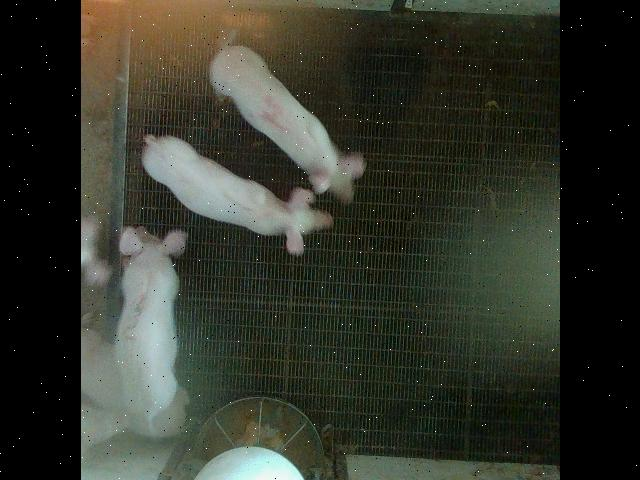pig-3: (112, 226, 185, 424)
pig-4: (209, 46, 365, 202)
